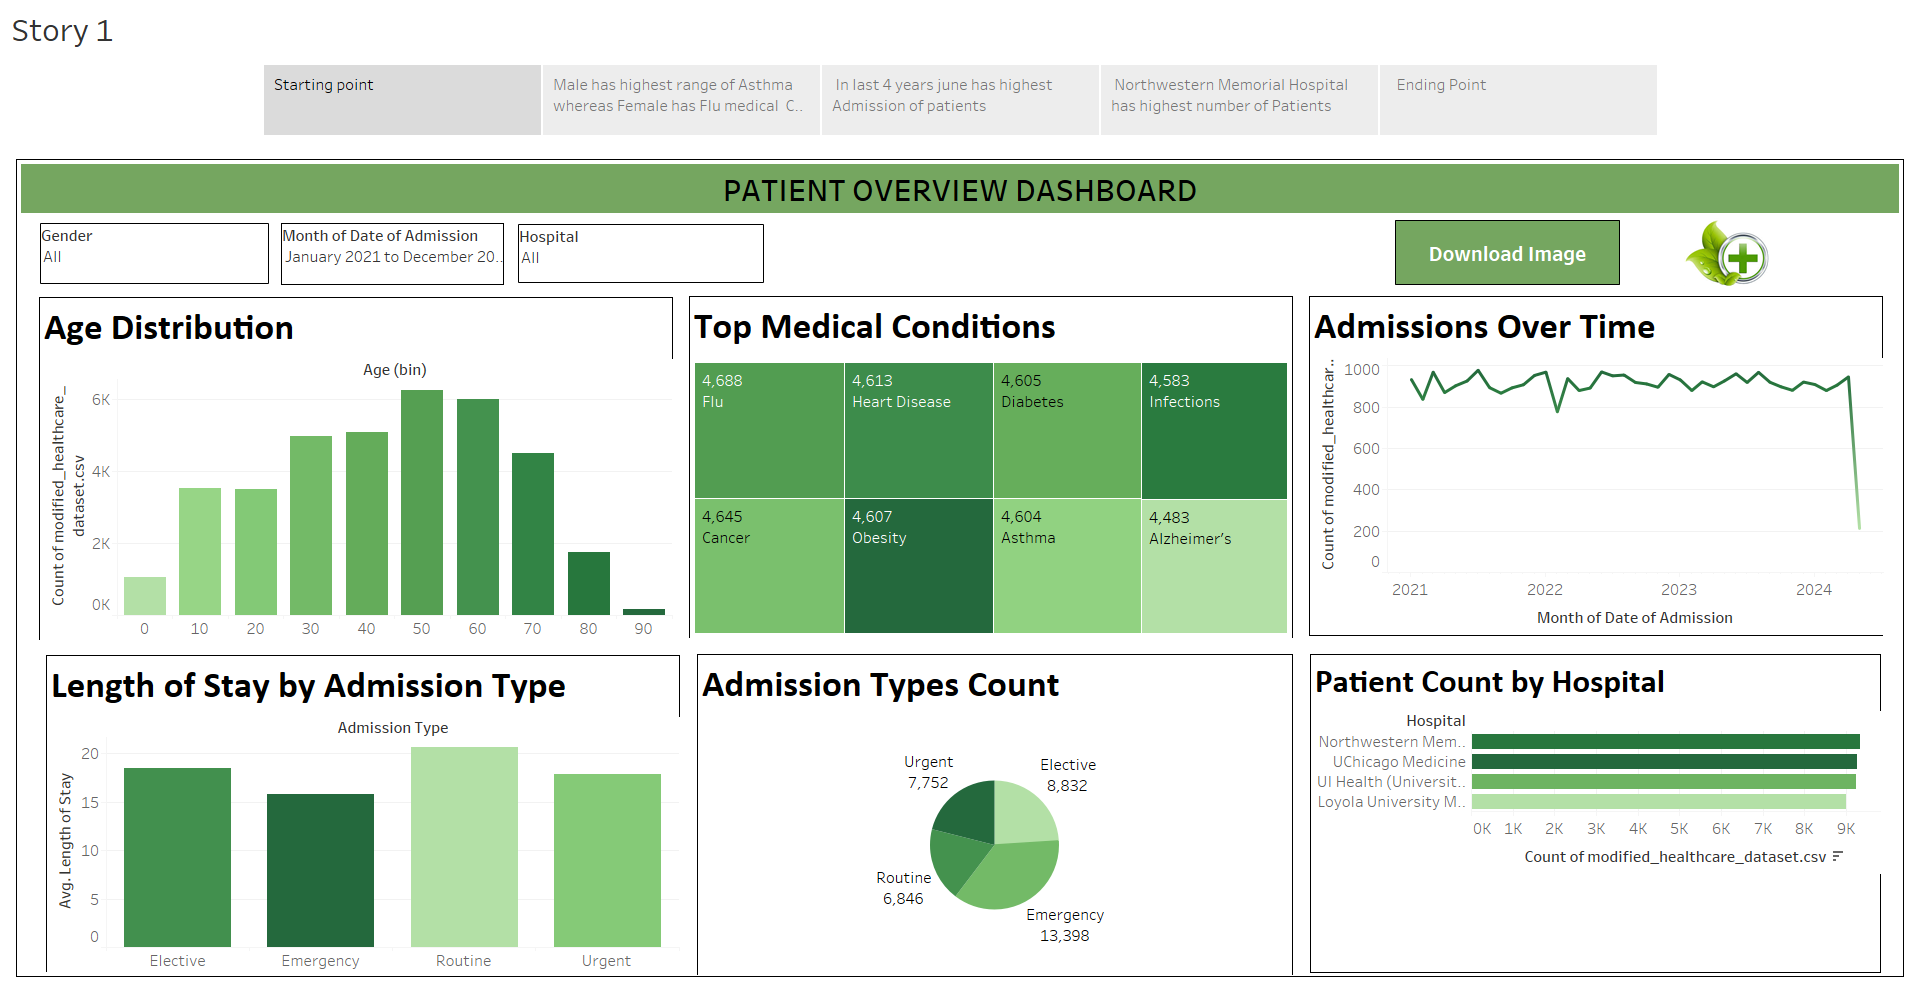

This screenshot's page, from the dashboard's own definition file:
{"tool":"tableau","page":{"name":"Dashboard 1","canvas":[1000,1000],"units":"permille","ordinal":0},"visuals":[{"type":"title","box":[4.7,9.1,990.6,57.4]},{"type":"image","param":"Image/health care.jpg","box":[825,79.9,155.1,82.4]},{"type":"dashboard-object","box":[728.4,82.4,118.3,78.7]},{"type":"filter","title":"Sheet 2","param":"[federated.1vwjf32122c6xp197zx8q0715ybu].[none:Gender:nk]","box":[16.8,86.1,120.2,73.7]},{"type":"filter","title":"Sheet 6","param":"[federated.1vwjf32122c6xp197zx8q0715ybu].[tmn:Date of Admission:qk]","box":[143.5,86.1,117.2,74.9]},{"type":"filter","title":"Sheet 5","param":"[federated.1vwjf32122c6xp197zx8q0715ybu].[none:Hospital:nk]","box":[267.9,87.4,129.2,71.2]},{"type":"worksheet","title":"Sheet 3","mark":"Square","box":[357.9,173.5,316.8,410.7]},{"type":"worksheet","title":"Sheet 6","mark":"Automatic","rows":["modified_healthcare_dataset.csv_CF0080983AFB4ABCB07073D8DDD8"],"cols":["Date of Admission"],"box":[683.2,173.5,301.8,408.2]},{"type":"worksheet","title":"Sheet 2","mark":"Automatic","rows":["modified_healthcare_dataset.csv_CF0080983AFB4ABCB07073D8DDD8"],"cols":["Age (bin)"],"box":[16.3,174.8,333.1,412]},{"type":"worksheet","title":"Sheet 7","mark":"Pie","box":[362.1,603,312.6,384.5]},{"type":"worksheet","title":"Sheet 5","mark":"Automatic","rows":["Hospital"],"cols":["modified_healthcare_dataset.csv_CF0080983AFB4ABCB07073D8DDD8"],"box":[683.8,603,299.9,382]},{"type":"worksheet","title":"Sheet 4","mark":"Automatic","rows":["Length of Stay"],"cols":["Admission Type"],"box":[19.9,604.2,333.1,380.8]}]}

Visuals, with their boxes on the dashboard's canvas, which has no fixed pixel size, in thousandths of its width and height (x1, y1, x2, y2). These are canvas units, not pixel positions in the 1920x993 screenshot, which may show the page scaled, cropped or inside an application window:
title: 5:9:995:66
image: 825:80:980:162
dashboard-object: 728:82:847:161
"Sheet 2" filter: 17:86:137:160
"Sheet 6" filter: 144:86:261:161
"Sheet 5" filter: 268:87:397:159
"Sheet 3" worksheet (Square marks): 358:174:675:584
"Sheet 6" worksheet: 683:174:985:582
"Sheet 2" worksheet: 16:175:349:587
"Sheet 7" worksheet (Pie marks): 362:603:675:988
"Sheet 5" worksheet: 684:603:984:985
"Sheet 4" worksheet: 20:604:353:985
